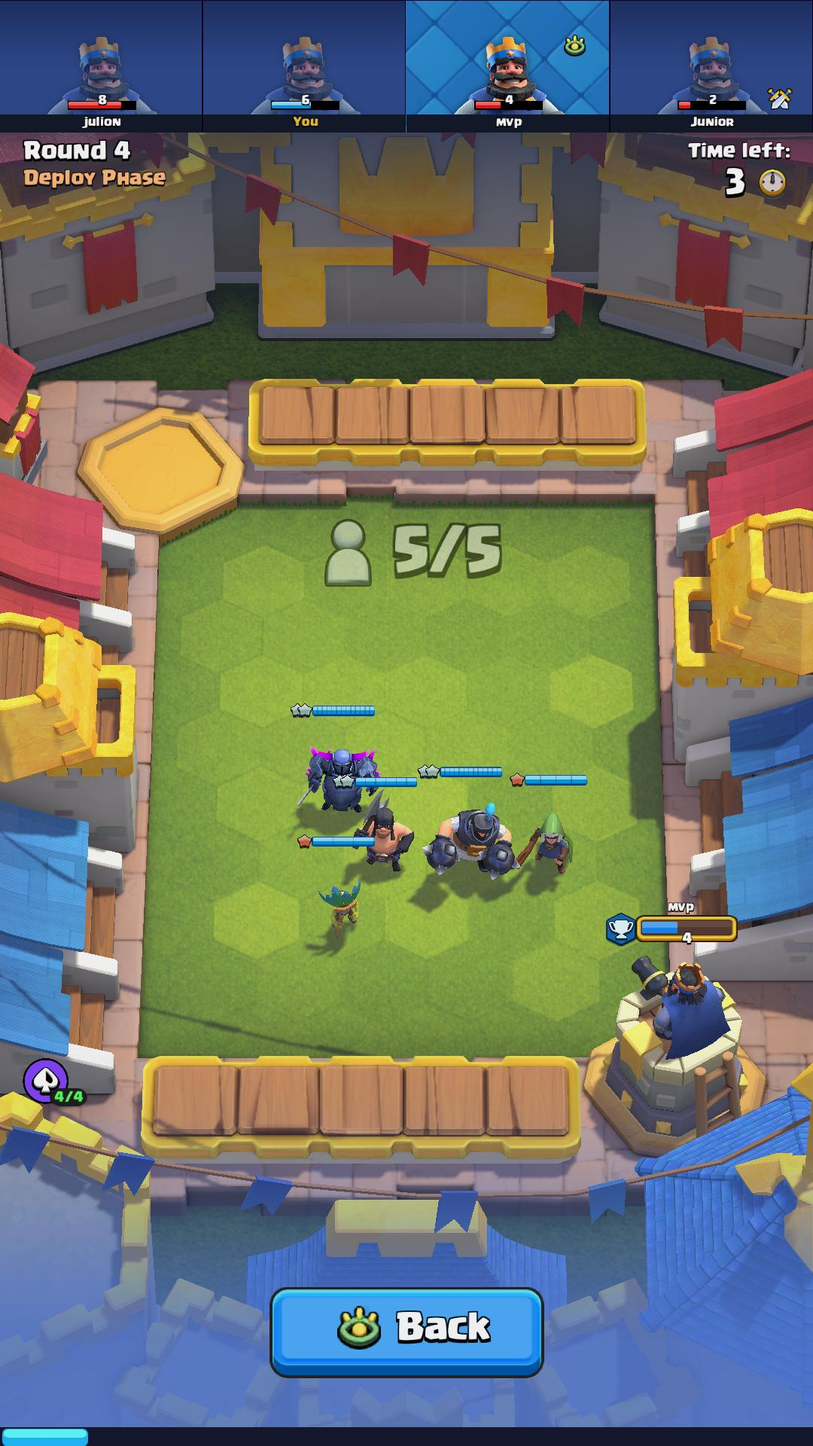bandit: (517, 806, 577, 875)
dart: (320, 879, 368, 934)
executioner: (358, 795, 416, 878)
mega: (431, 799, 512, 884)
pekka: (298, 740, 378, 818)
